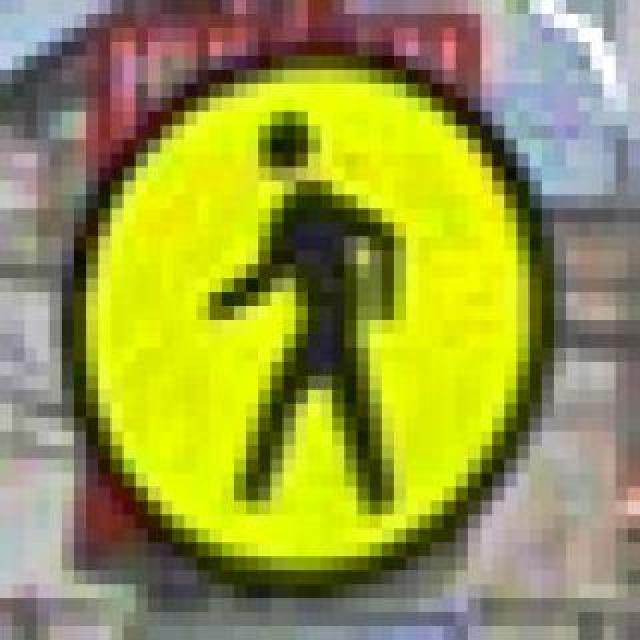pedestrian crossing: (38, 28, 554, 584)
